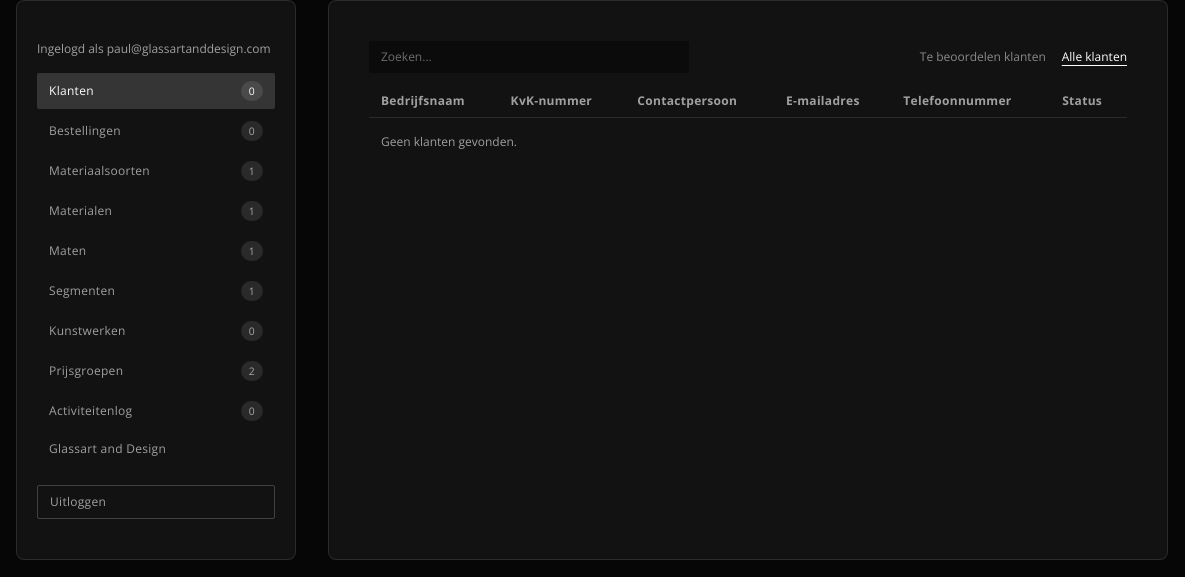
Scenario: BeheerShell › shows the prijsgroepen count and switches to the Prijsgroepen section
Click the button with test id "beheer-nav-prijsgroepen".
click(156, 371)  # box [37,353,275,389]
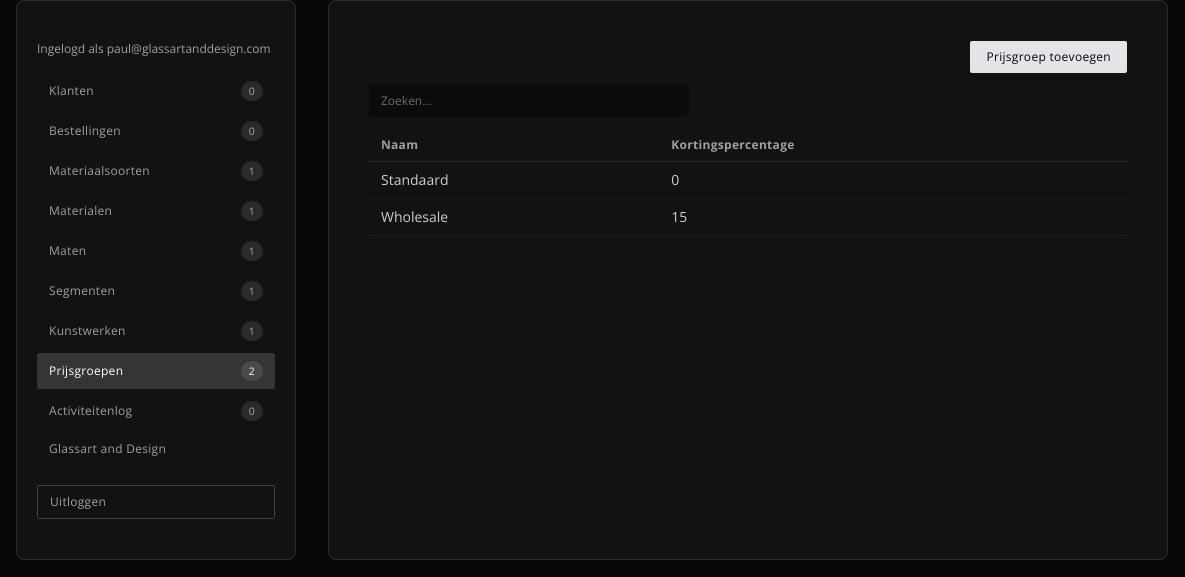
Check: the element with test id "prijsgroepen-section" is shown, box [369,41,1127,236]
Check: the row with test id "data-table-row-pg-1" shows "Standaard", box [381,170,448,189]
